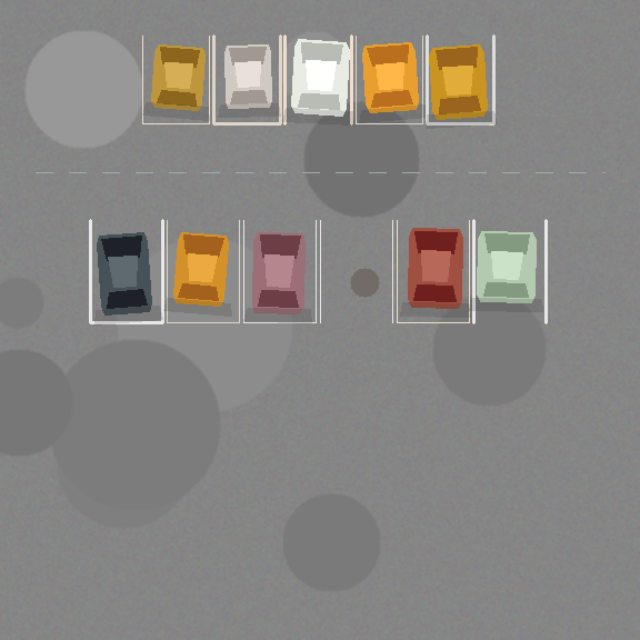space-empty: (320, 220, 392, 322)
space-occupied: (243, 220, 316, 322), (473, 220, 546, 322), (90, 220, 162, 322), (167, 220, 239, 322), (397, 220, 469, 322), (142, 36, 209, 123), (213, 36, 280, 123), (284, 36, 351, 123), (356, 36, 422, 123), (427, 36, 493, 123)
